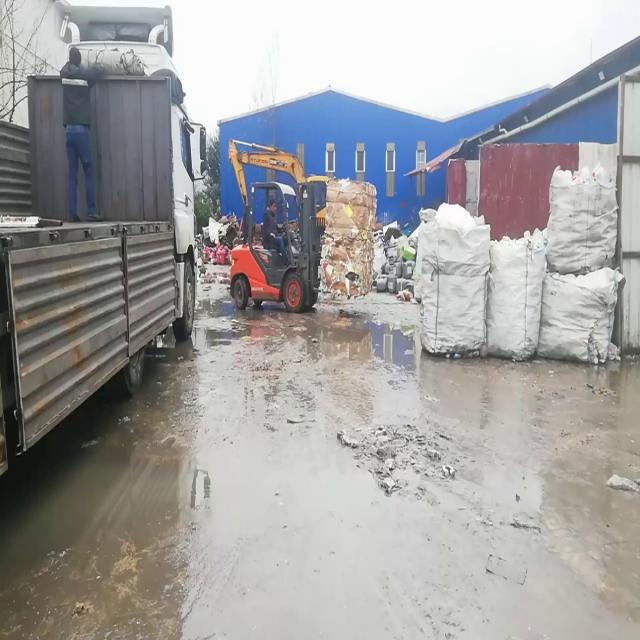Chariot elevateur: (225, 174, 325, 320)
